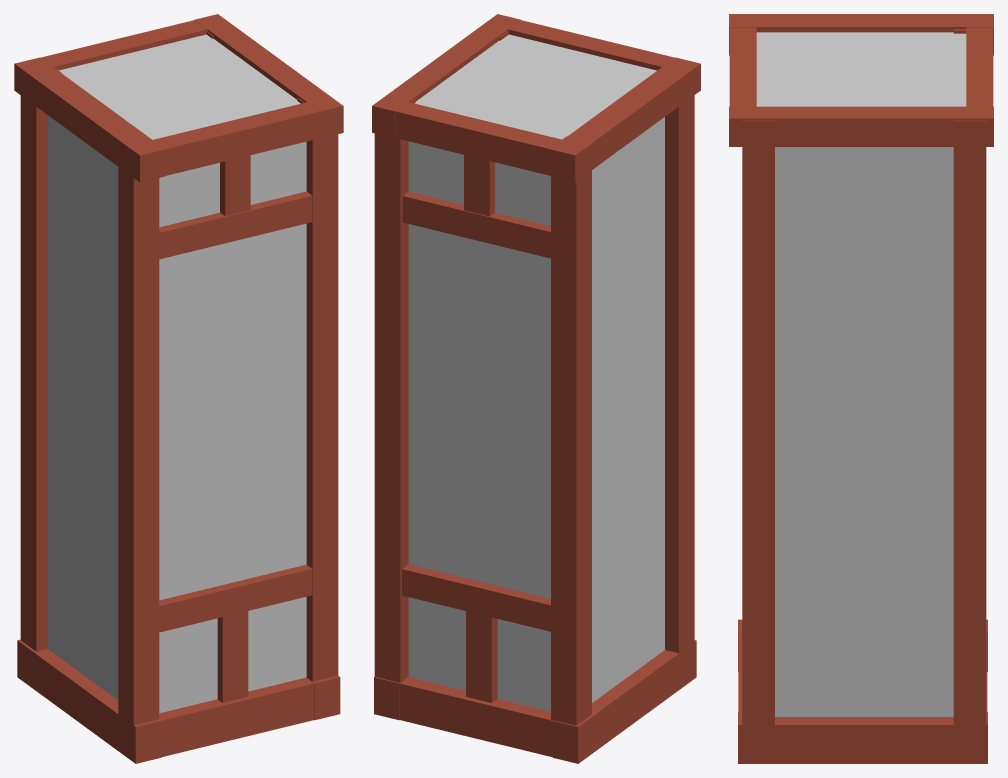
The model's file is SM_pillar_modular.fbx.
3 renders of one model, left to right at view 1: azimuth 30°, elevation 25°; view 2: azimuth 150°, elevation 25°; view 3: azimuth 270°, elevation 25°, orthographic. The views are drawn at different scales.
Visible parts, largest first — view 1: Box452; view 2: Box452; view 3: Box452.
Boxes of the visible parts, x1,y1,x2,y2 form: Box452: (14, 14, 343, 763); Box452: (372, 14, 700, 763); Box452: (729, 14, 993, 763).
Bounding box in the file's own units: 44.08 × 126 × 46.9.
